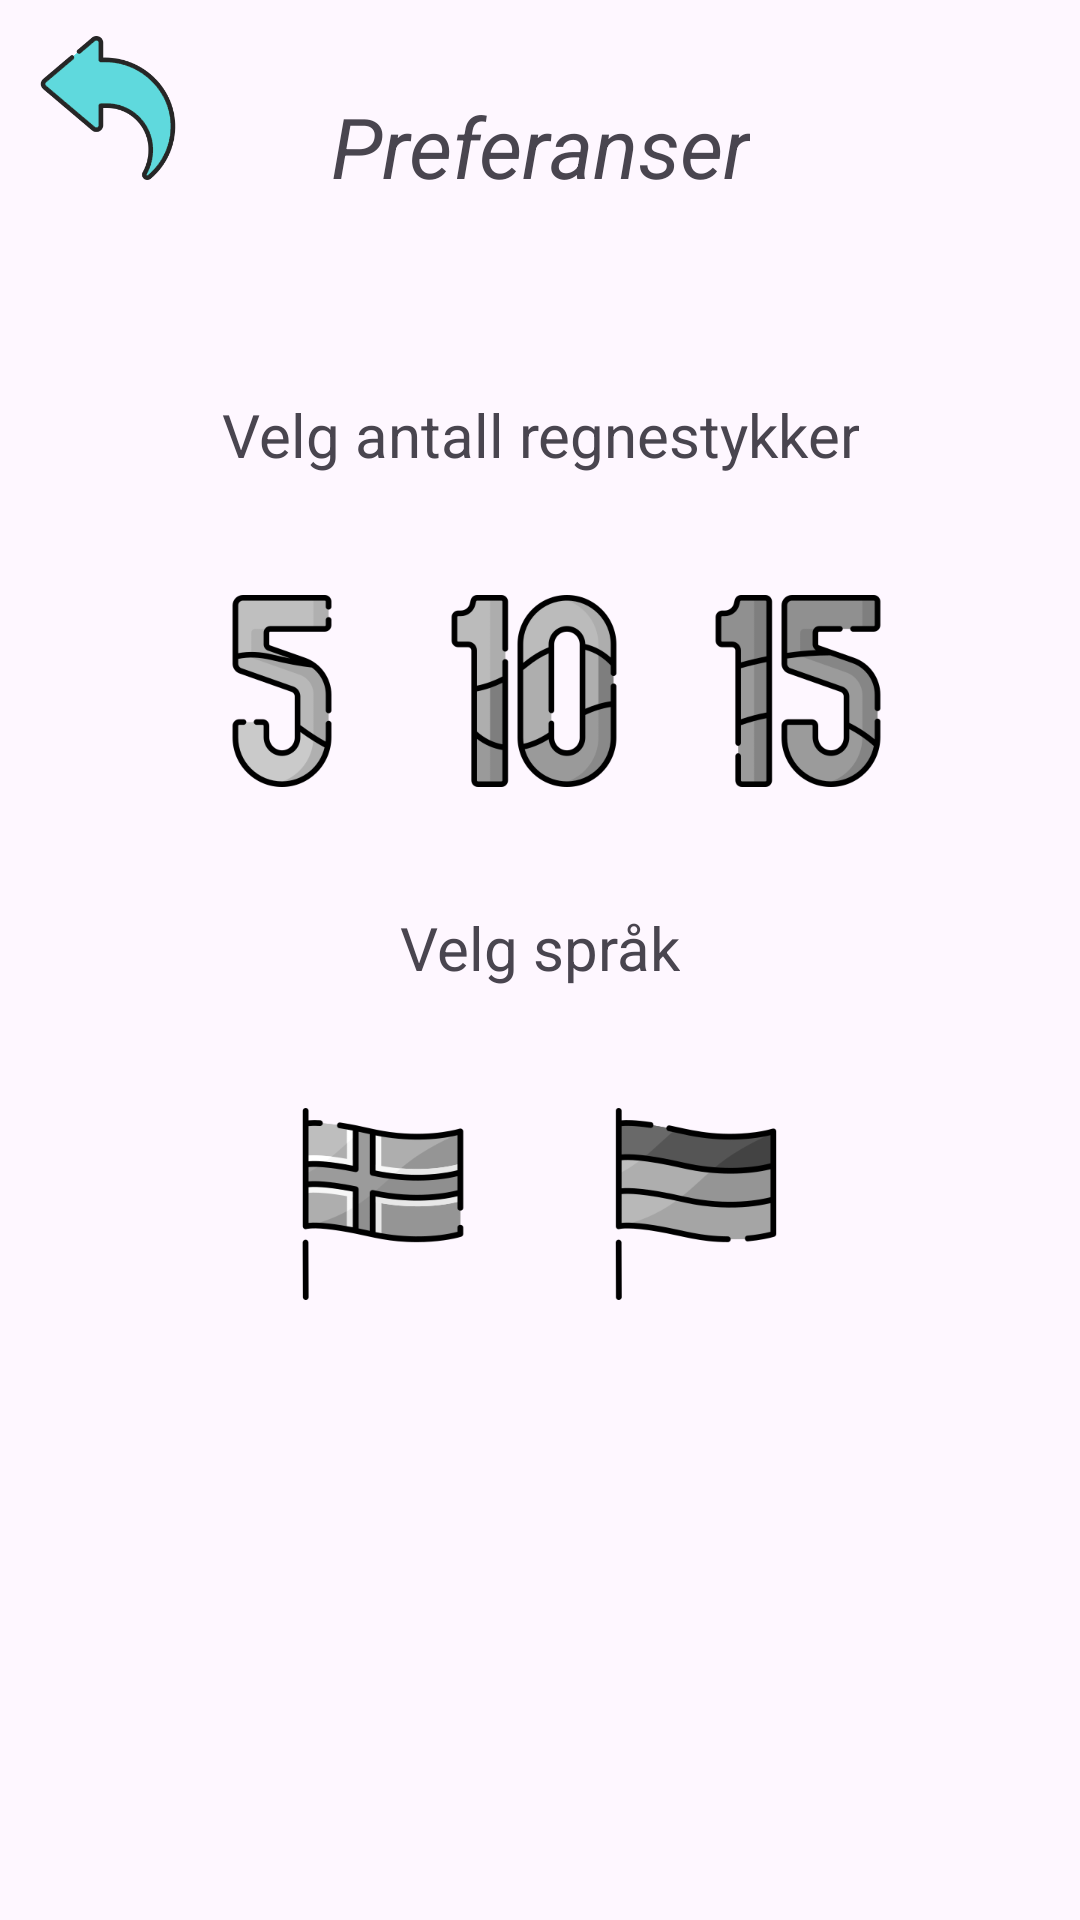

Icon bounding boxes for this 1080w x 1920h phone screenshot, format (x1, y1, x2, y2):
Norsk: (302, 1108, 464, 1300)
Til hovedmenyen: (40, 36, 176, 180)
Tysk: (615, 1108, 777, 1300)
